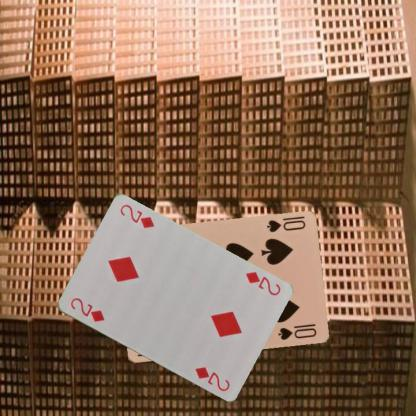10s: (264, 217, 306, 234)
2d: (67, 294, 106, 324), (243, 269, 282, 297)
